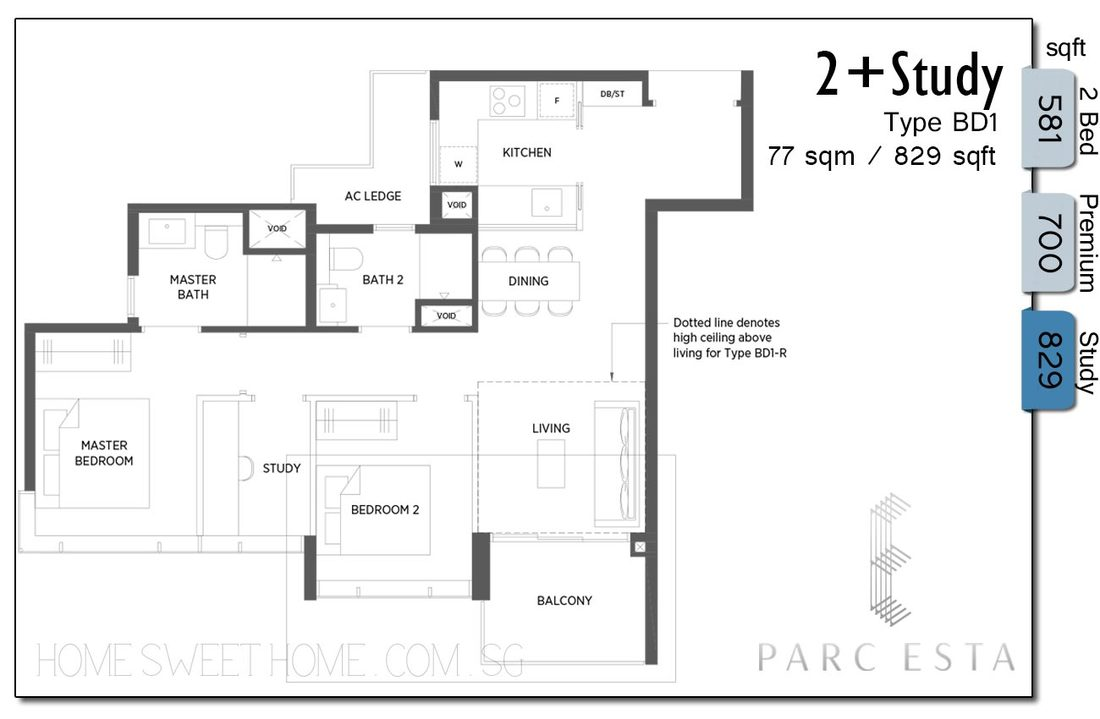window: (427, 118, 441, 188), (372, 224, 417, 238), (125, 278, 135, 314)
